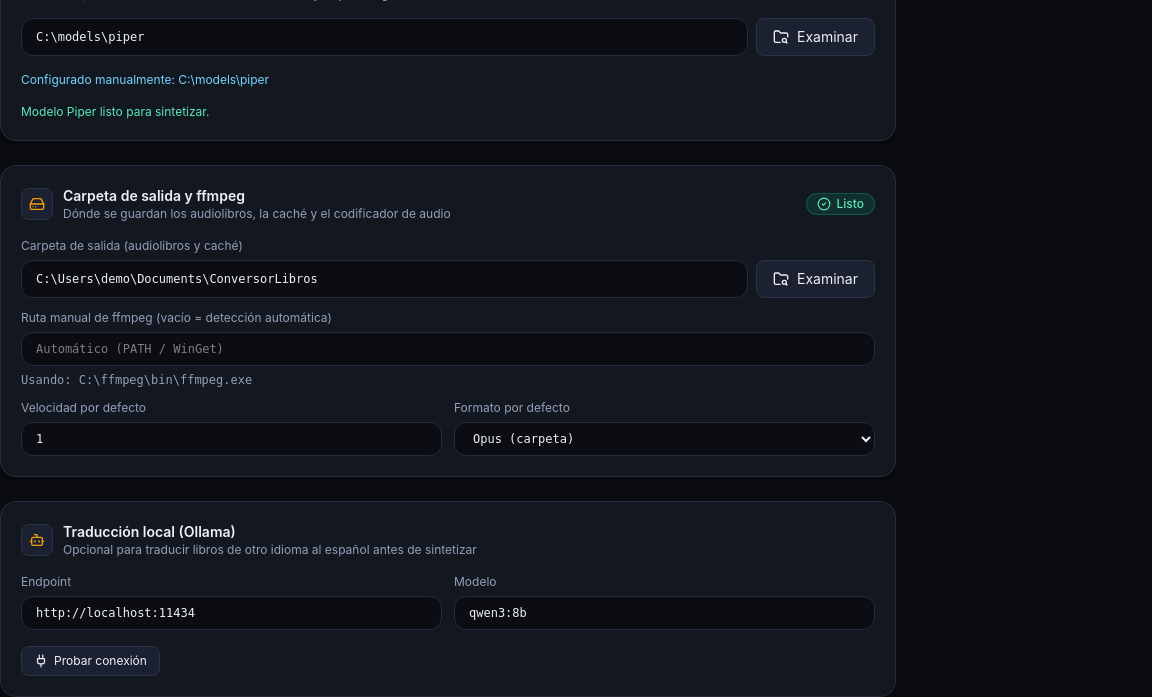
Test: SettingsPage › Probar conexión populates detected Ollama models selector
(page scrolled)
Expected: the field showing "qwen3:8b" is shown, x1=454 y1=596 x2=875 y2=630
Click the button "Probar conexión". click: (90, 661)
box: x1=21 y1=646 x2=160 y2=676
(page scrolled)
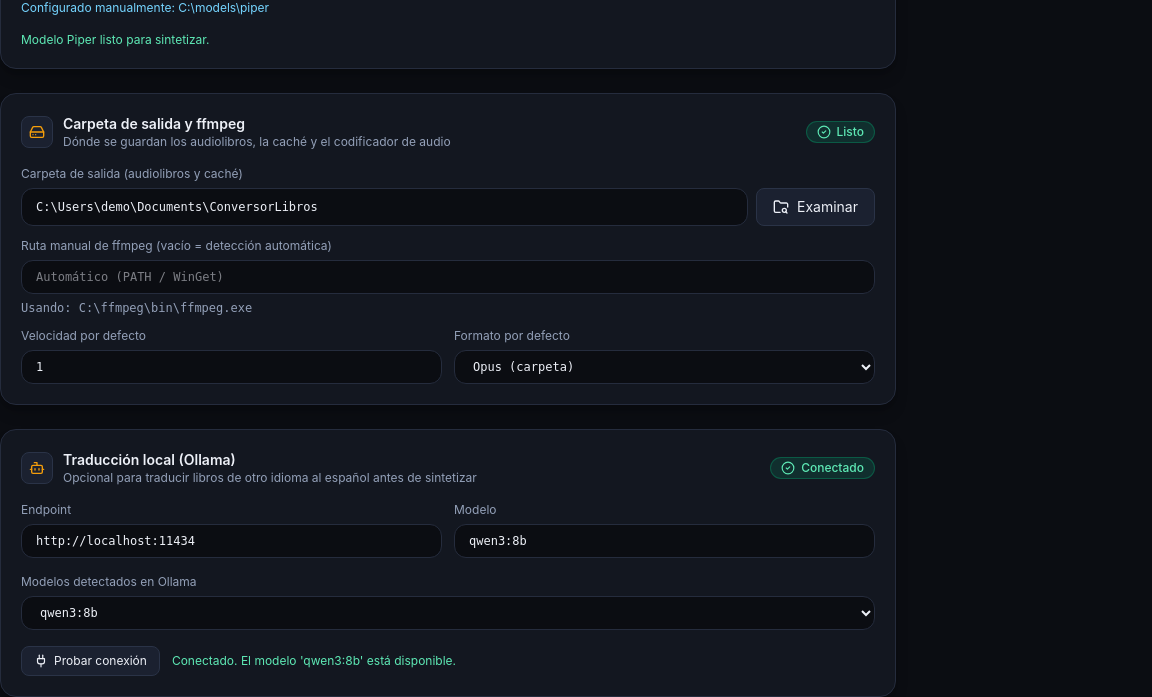
Now the text "Conectado. El modelo 'qwen3:8b' está disponible." is shown, box x1=172 y1=653 x2=456 y2=669
